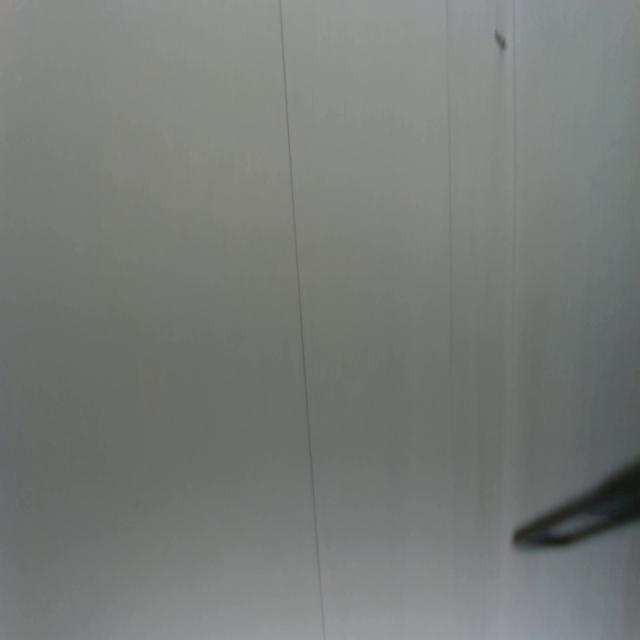crease: (277, 0, 330, 640), (441, 0, 459, 383), (509, 0, 521, 342)
hole: (493, 26, 508, 58)
